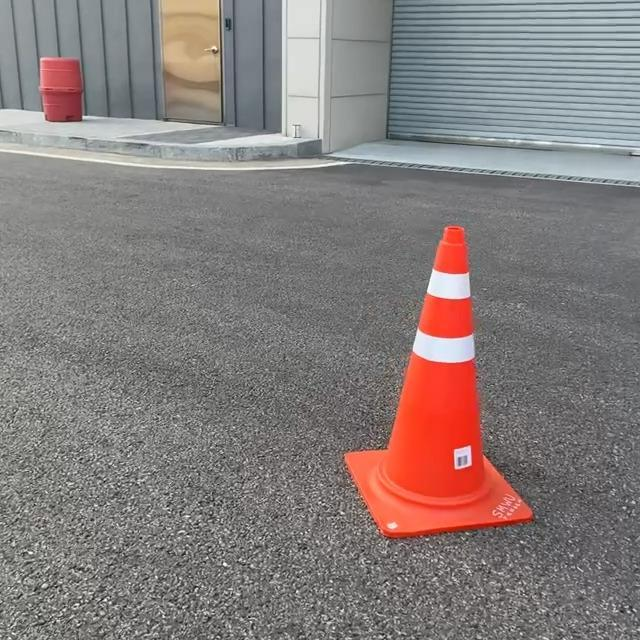fallen_object: (246, 215, 566, 564)
